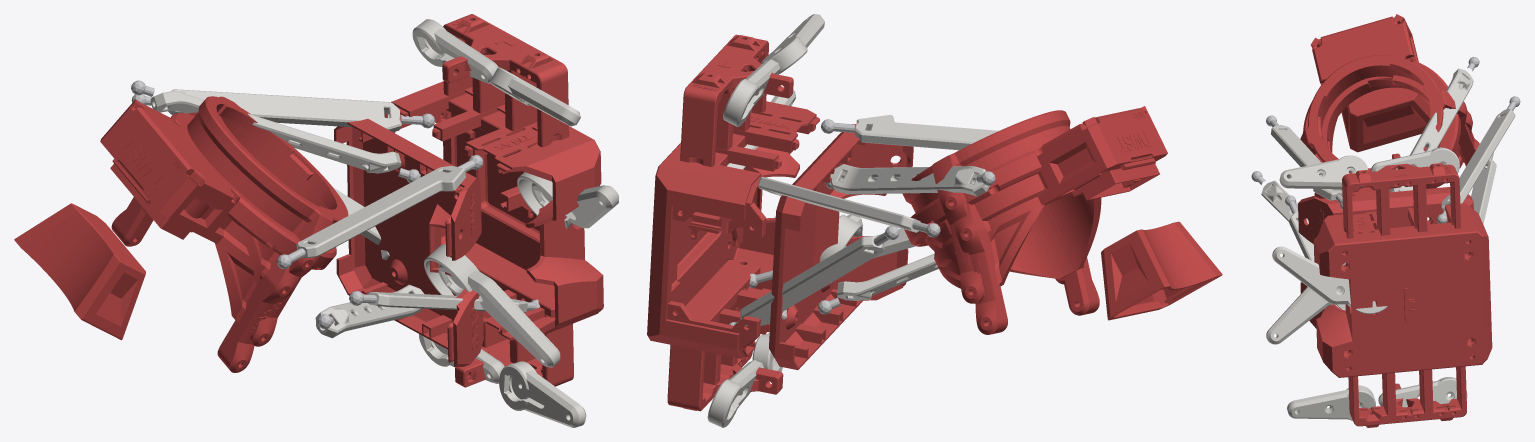
Rendered from ORS6_phys.glb.
3 views of the same model, side by side, from view 1: azimuth 30°, elevation 25°; view 2: azimuth 150°, elevation 25°; view 3: azimuth 270°, elevation 25° (orthographic). The views are drawn at different scales.
Parts seen in each view (by area): view 1: p0, p3, p7, p5, p8, p1, p6, p2, p19, p30, p13, p25 (+8 smaller); view 2: p0, p7, p3, p5, p8, p1, p2, p25, p37, p13, p6, p19 (+7 smaller); view 3: p0, p5, p1, p6, p8, p2, p3, p24, p12, p42, p25, p19 (+9 smaller).
Part boxes in pixels (x1,y1,x2,y2): p0: [384, 81, 603, 341]; p3: [334, 118, 483, 366]; p7: [100, 109, 327, 372]; p5: [187, 96, 348, 346]; p8: [14, 203, 145, 340]; p1: [442, 14, 569, 147]; p6: [126, 99, 336, 265]; p2: [455, 243, 573, 387]; p19: [168, 89, 401, 132]; p30: [424, 244, 560, 367]; p13: [296, 166, 465, 258]; p25: [150, 91, 401, 173]; p0: [647, 101, 819, 358]; p7: [908, 118, 1167, 334]; p3: [769, 124, 913, 369]; p5: [902, 110, 1076, 303]; p8: [1101, 221, 1222, 320]; p1: [680, 34, 793, 166]; p2: [667, 259, 783, 411]; p25: [830, 164, 989, 196]; p37: [740, 236, 884, 325]; p13: [855, 114, 998, 150]; p6: [904, 106, 1150, 237]; p19: [758, 176, 920, 232]; p0: [1313, 203, 1492, 377]; p5: [1300, 55, 1479, 198]; p1: [1342, 153, 1467, 251]; p6: [1303, 14, 1459, 195]; p8: [1341, 87, 1430, 152]; p2: [1345, 350, 1472, 427]; p3: [1298, 187, 1473, 328]; p24: [1272, 246, 1387, 313]; p12: [1279, 155, 1368, 189]; p42: [1287, 385, 1375, 420]; p25: [1389, 68, 1473, 192]; p19: [1441, 108, 1515, 210].
Bounding box in the file's own units: 355 × 244 × 215.
